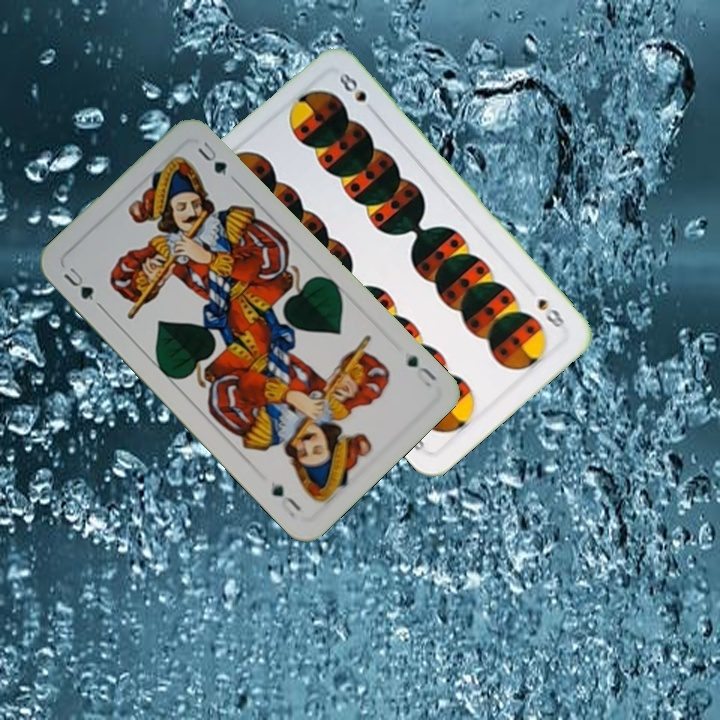GU: (59, 263, 98, 304), (403, 350, 439, 390)
S8: (533, 294, 568, 331)
